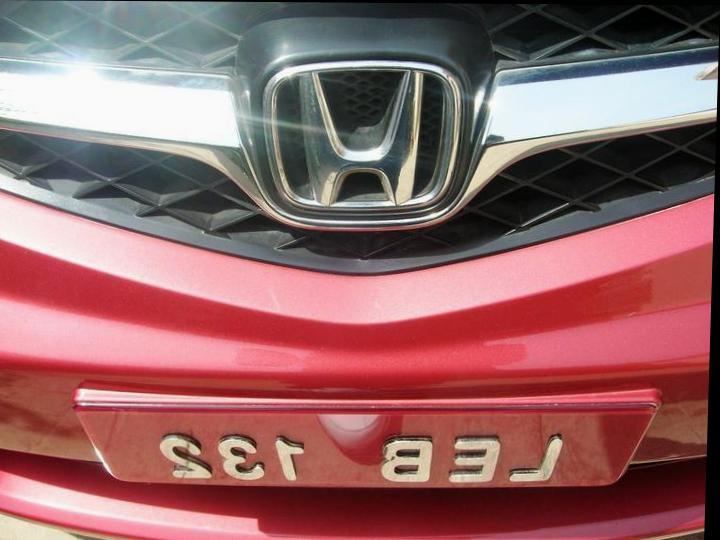License_Plate: (58, 379, 666, 508)
